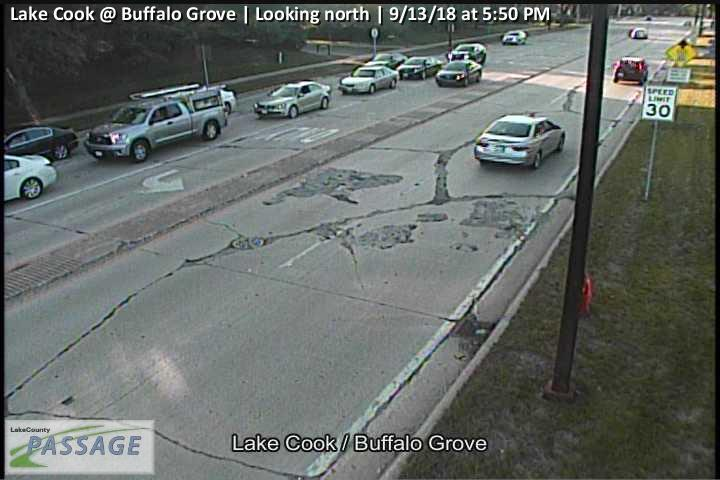SUV: (447, 42, 487, 68), (614, 57, 648, 86), (501, 30, 528, 46)
Sedan: (84, 82, 227, 164), (474, 113, 566, 170), (253, 81, 332, 118), (5, 126, 79, 161), (340, 65, 400, 94), (436, 60, 483, 87), (397, 56, 441, 80), (365, 52, 408, 72), (630, 27, 647, 38)
